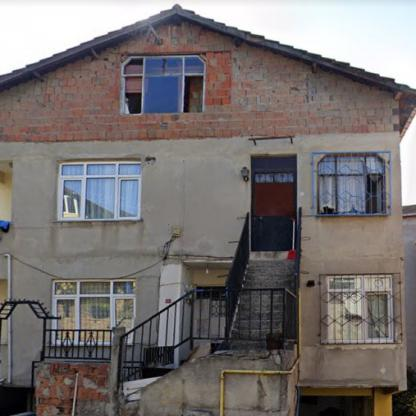door: (250, 158, 296, 252)
window: (119, 54, 203, 113), (58, 162, 142, 219), (329, 276, 392, 340), (319, 152, 384, 214), (53, 280, 130, 327)
